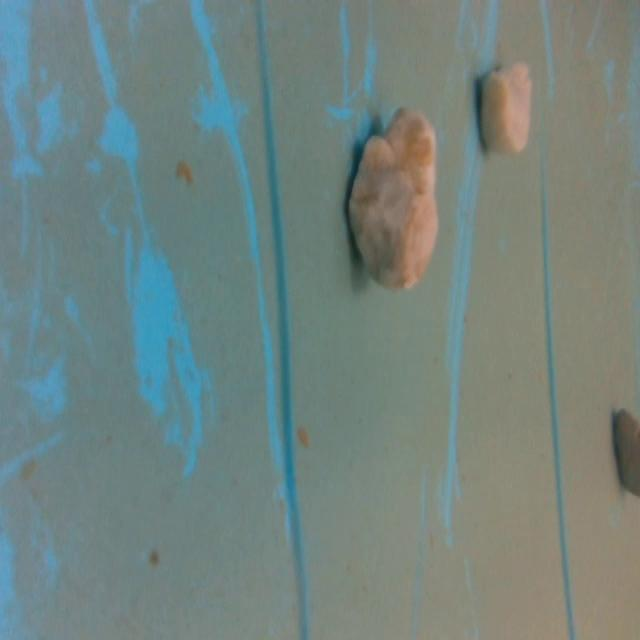rock: (345, 98, 446, 300), (471, 54, 538, 164)
